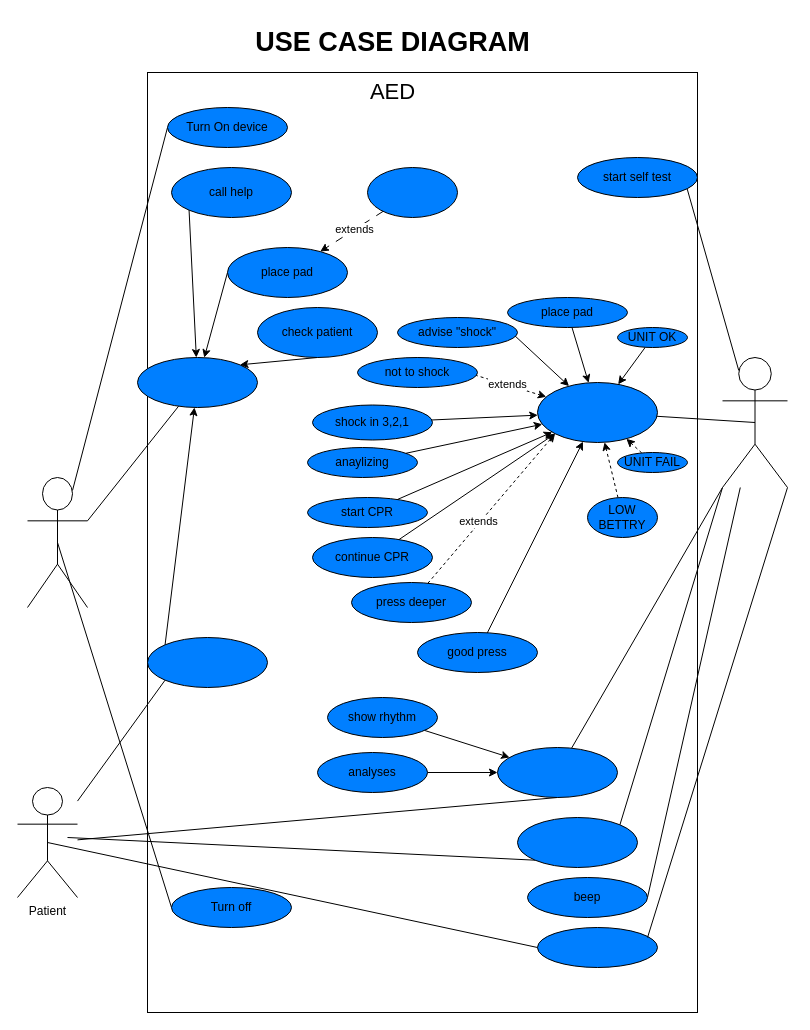
Some shapes in this 810 by 1030 pixel diagram are drawn without their labels. The centre of each missing label's shape, as x and y in pixels:
AED controlor: the point at 755,422
detect deepth: the point at 577,842
detect rhythm: the point at 557,772
do CPR: the point at 207,662
Follow instructions: the point at 197,382
shave: the point at 412,192
shock: the point at 597,947
Show messages: the point at 597,412
User: the point at 57,542
